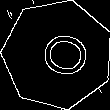O_W: (26, 27, 88, 82)
